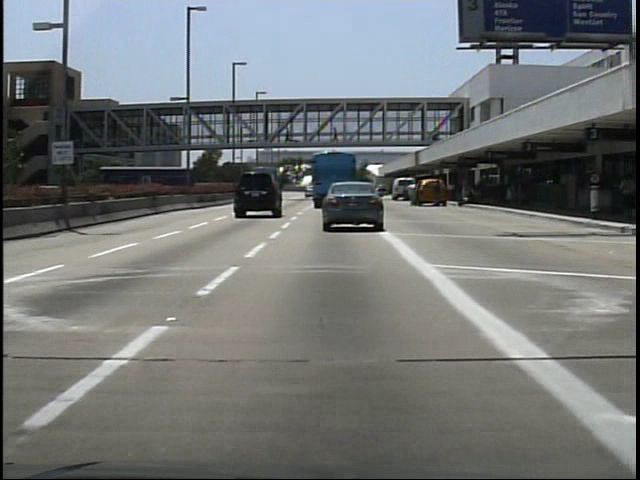person: (430, 177, 447, 211), (402, 179, 421, 209), (330, 124, 343, 150), (282, 121, 296, 143)
